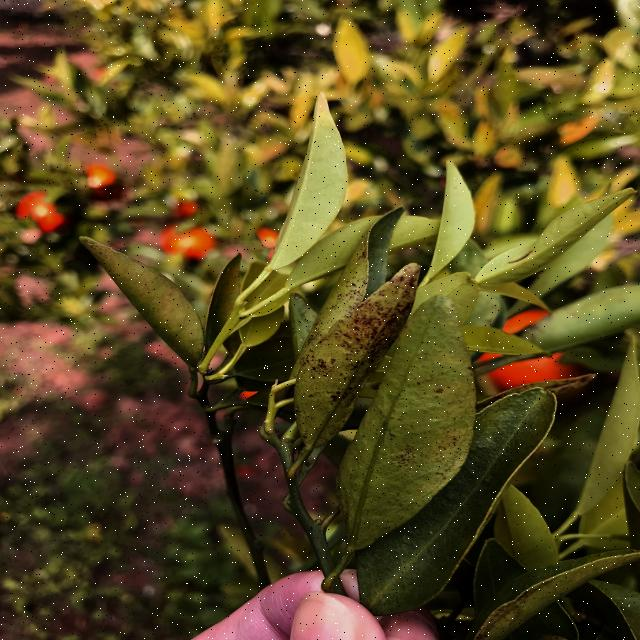melanose: (330, 302, 475, 522), (273, 263, 426, 463), (484, 372, 607, 409)
